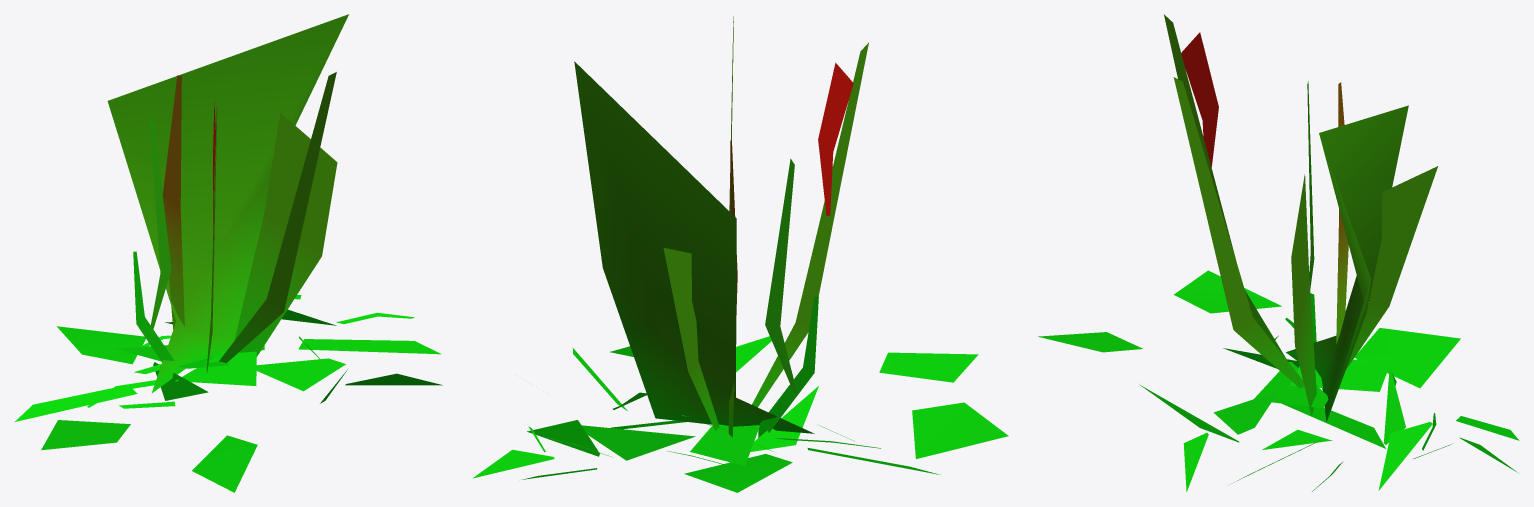
The model's file is Var2_LOD3.fbx.
3 renders of one model, left to right at view 1: azimuth 30°, elevation 25°; view 2: azimuth 150°, elevation 25°; view 3: azimuth 270°, elevation 25°, orthographic. The views are drawn at different scales.
Parts seen in each view (by area): view 1: _b3et_Var2_LOD3; view 2: _b3et_Var2_LOD3; view 3: _b3et_Var2_LOD3.
Part boxes in pixels (x1,y1,x2,y2): _b3et_Var2_LOD3: (15, 14, 442, 492); _b3et_Var2_LOD3: (472, 16, 1008, 492); _b3et_Var2_LOD3: (1038, 14, 1519, 491).
Bounding box in the file's own units: 42.54 × 33.63 × 40.41.
